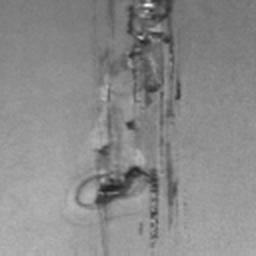Slag inclusion: (74, 0, 184, 242), (123, 120, 143, 132), (104, 215, 111, 224)
